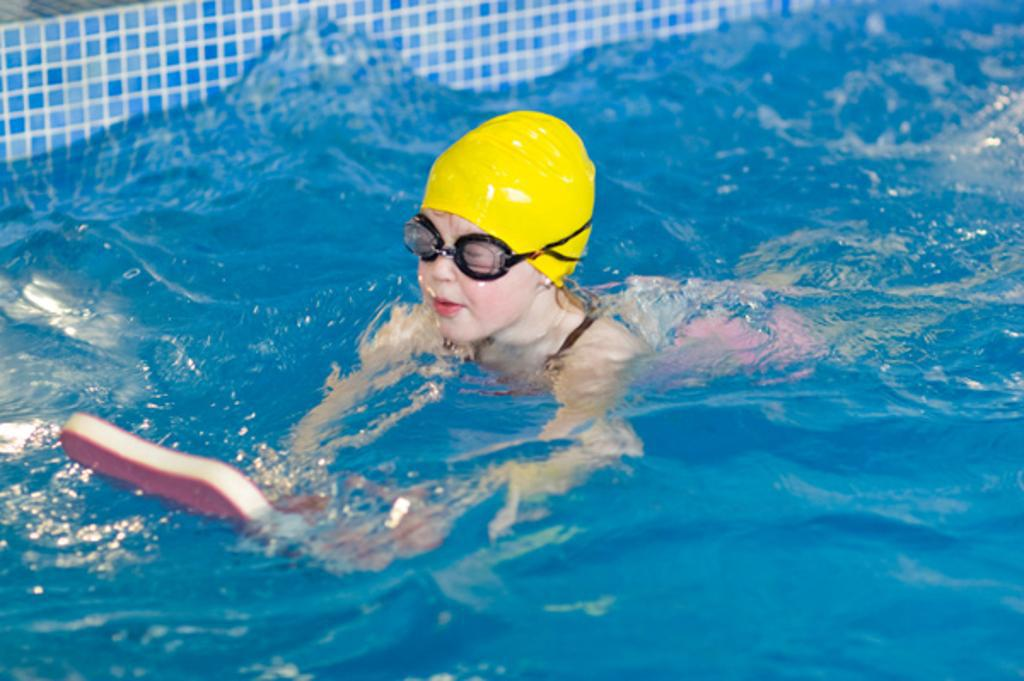face: (417, 171, 537, 343)
